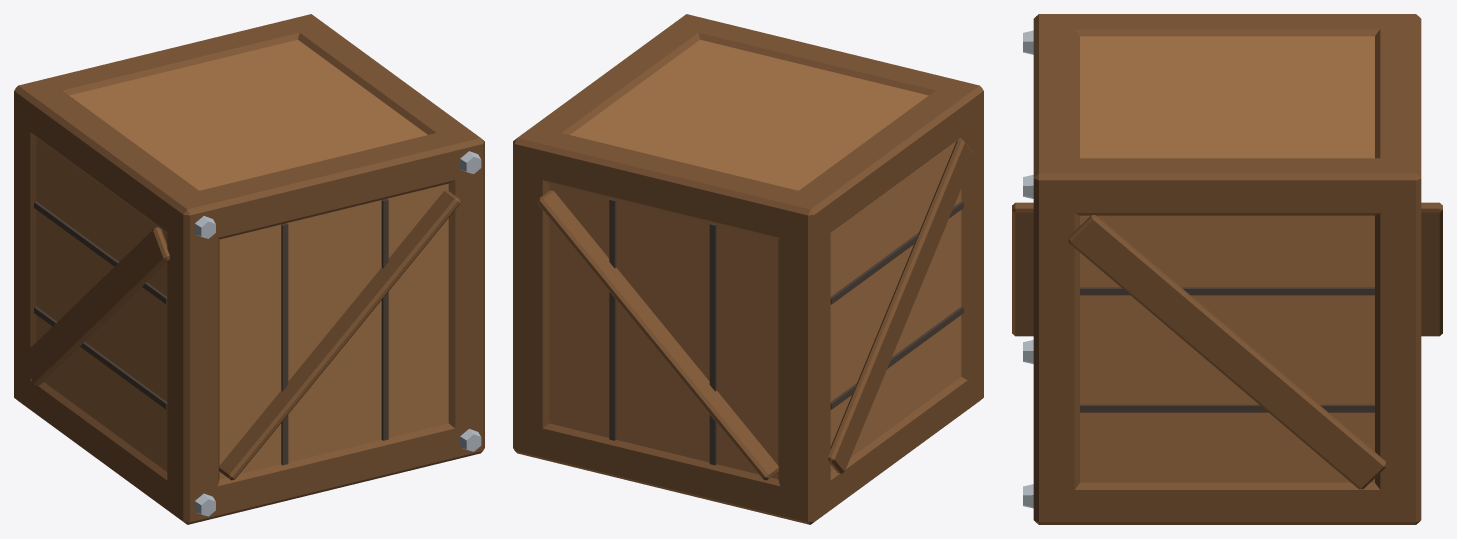
Rendered from Prop_CrateMedium.fbx.
3 views of the same model, side by side, from view 1: azimuth 30°, elevation 25°; view 2: azimuth 150°, elevation 25°; view 3: azimuth 270°, elevation 25° (orthographic). The views are drawn at different scales.
Parts seen in each view (by area): view 1: Wood, WoodDark, Timber, SteelLight; view 2: Wood, WoodDark, Timber; view 3: WoodDark, Wood, Timber, SteelLight.
Boxes of the visible parts, x1,y1,x2,y2 form: Wood: [36, 39, 448, 478]; WoodDark: [14, 14, 484, 524]; Timber: [34, 198, 388, 465]; SteelLight: [194, 151, 481, 516]; Wood: [549, 39, 961, 478]; WoodDark: [513, 14, 983, 524]; Timber: [609, 198, 963, 465]; WoodDark: [1012, 14, 1442, 524]; Wood: [1080, 36, 1374, 482]; Timber: [1080, 287, 1374, 412]; SteelLight: [1023, 30, 1033, 508].
Bounding box in the file's own units: 2.28 × 2.2 × 2.44.
